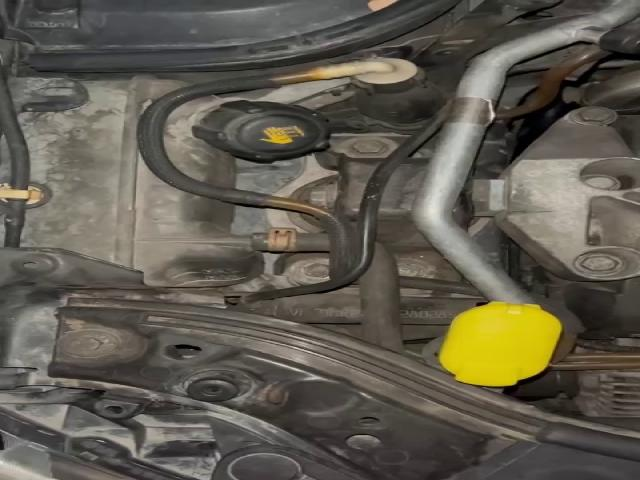antifreeze_tank: (22, 77, 263, 287), (161, 96, 329, 187)
